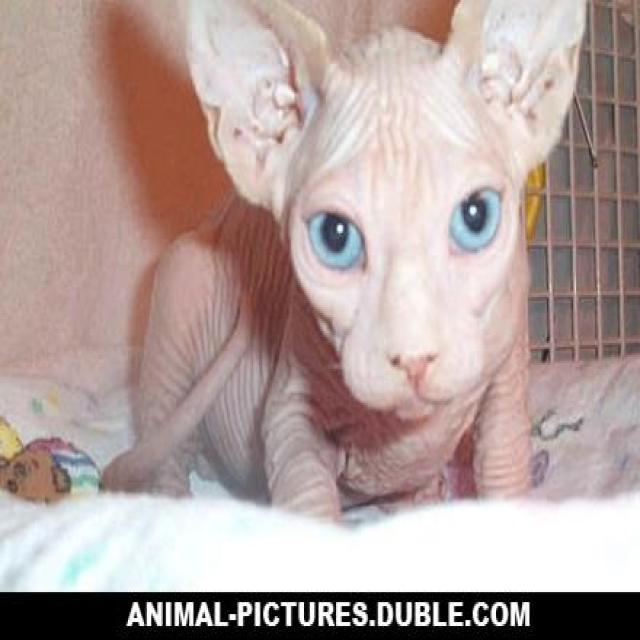Sphynx: (180, 0, 598, 433)
